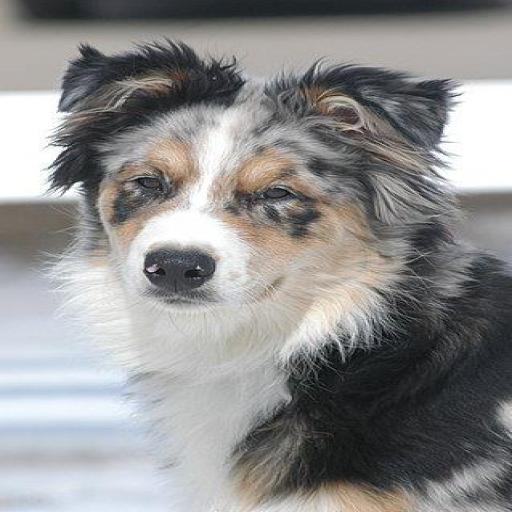dog_face: (55, 42, 428, 299)
